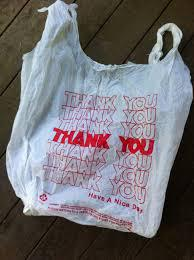Plastic: (4, 1, 192, 241)
